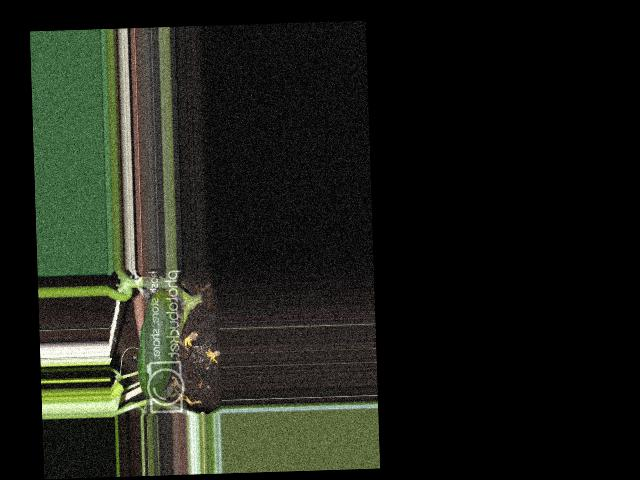cucumber: (135, 290, 178, 397)
